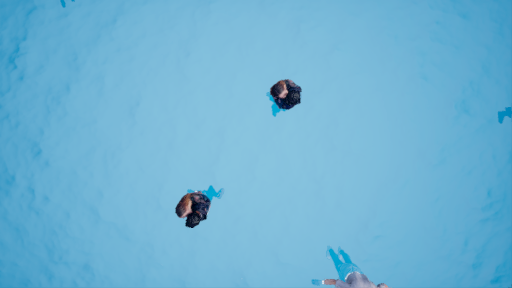person: (168, 182, 232, 230), (316, 244, 385, 288), (261, 80, 307, 121)
